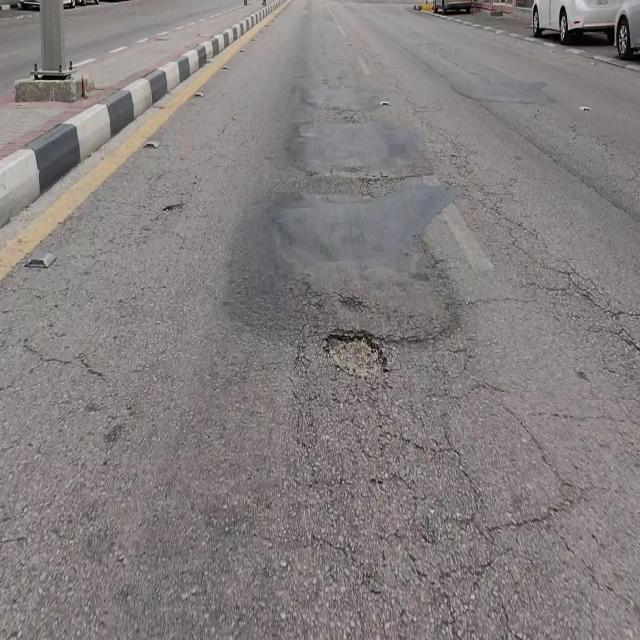Potholes: (325, 332, 387, 377)
